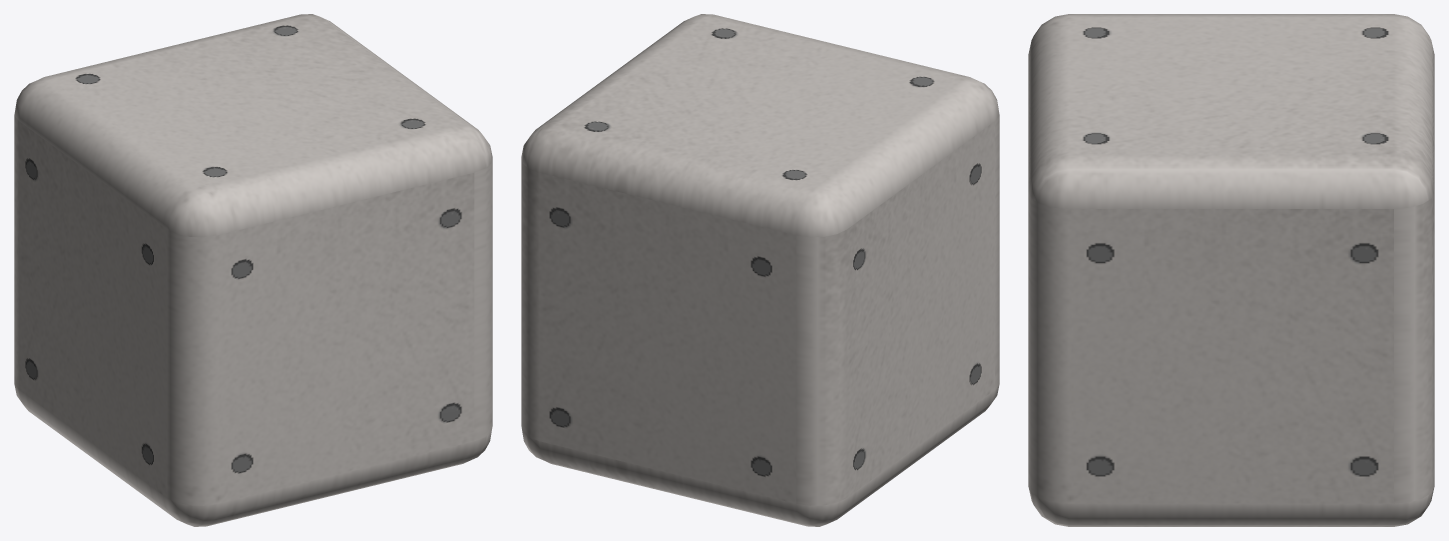
Rendered from WALL.fbx.
3 renders of one model, left to right at view 1: azimuth 30°, elevation 25°; view 2: azimuth 150°, elevation 25°; view 3: azimuth 270°, elevation 25°, orthographic. The views are drawn at different scales.
Visible parts, largest first — view 1: pCube44; view 2: pCube44; view 3: pCube44.
Part boxes in pixels (x1,y1,x2,y2): pCube44: [14, 14, 492, 526]; pCube44: [521, 14, 999, 526]; pCube44: [1028, 14, 1434, 526].
Bounding box in the file's own units: 100 × 100 × 100.
Materials: 1 (1 with a texture image).
